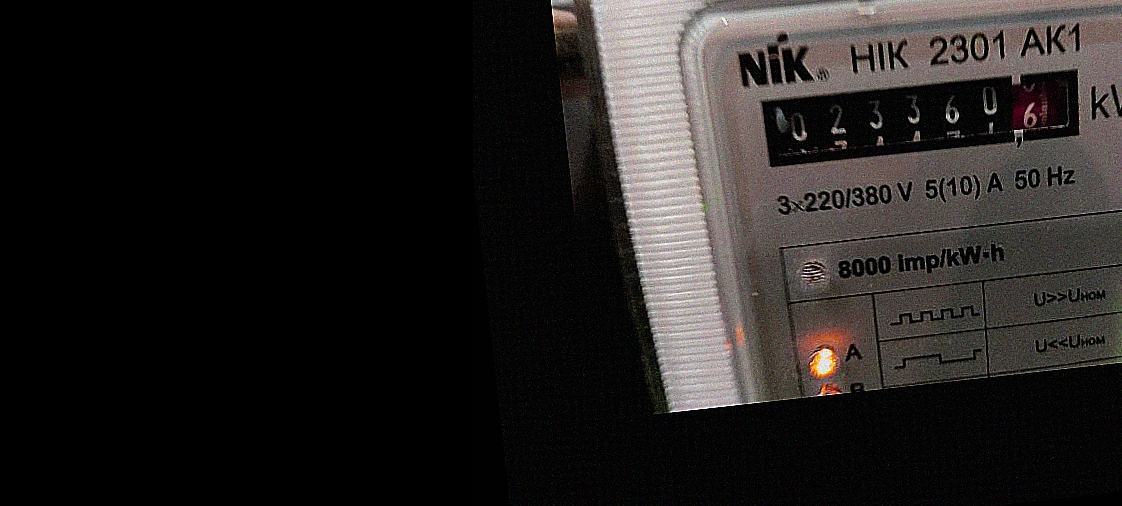0: (785, 106, 811, 143), (977, 80, 1002, 118)
2: (825, 99, 849, 136)
3: (863, 95, 887, 132), (902, 90, 924, 126)
6: (939, 89, 963, 125), (1018, 95, 1040, 130)
screen: (746, 51, 1106, 188)
